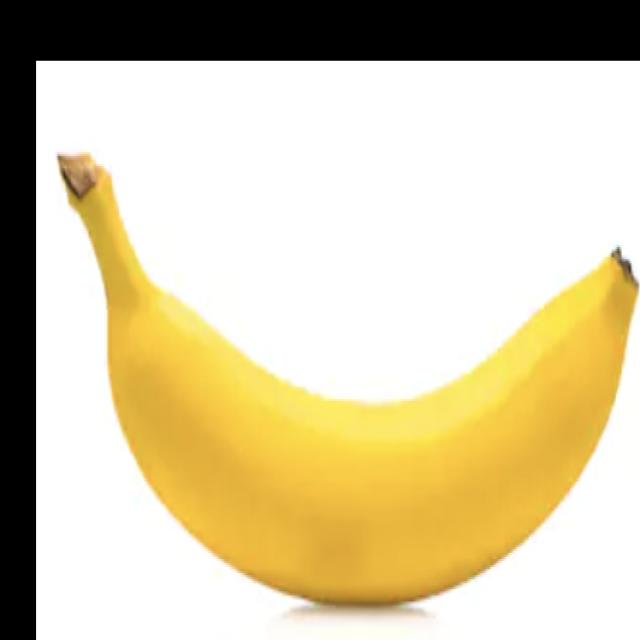Ripe: (53, 117, 640, 604)
